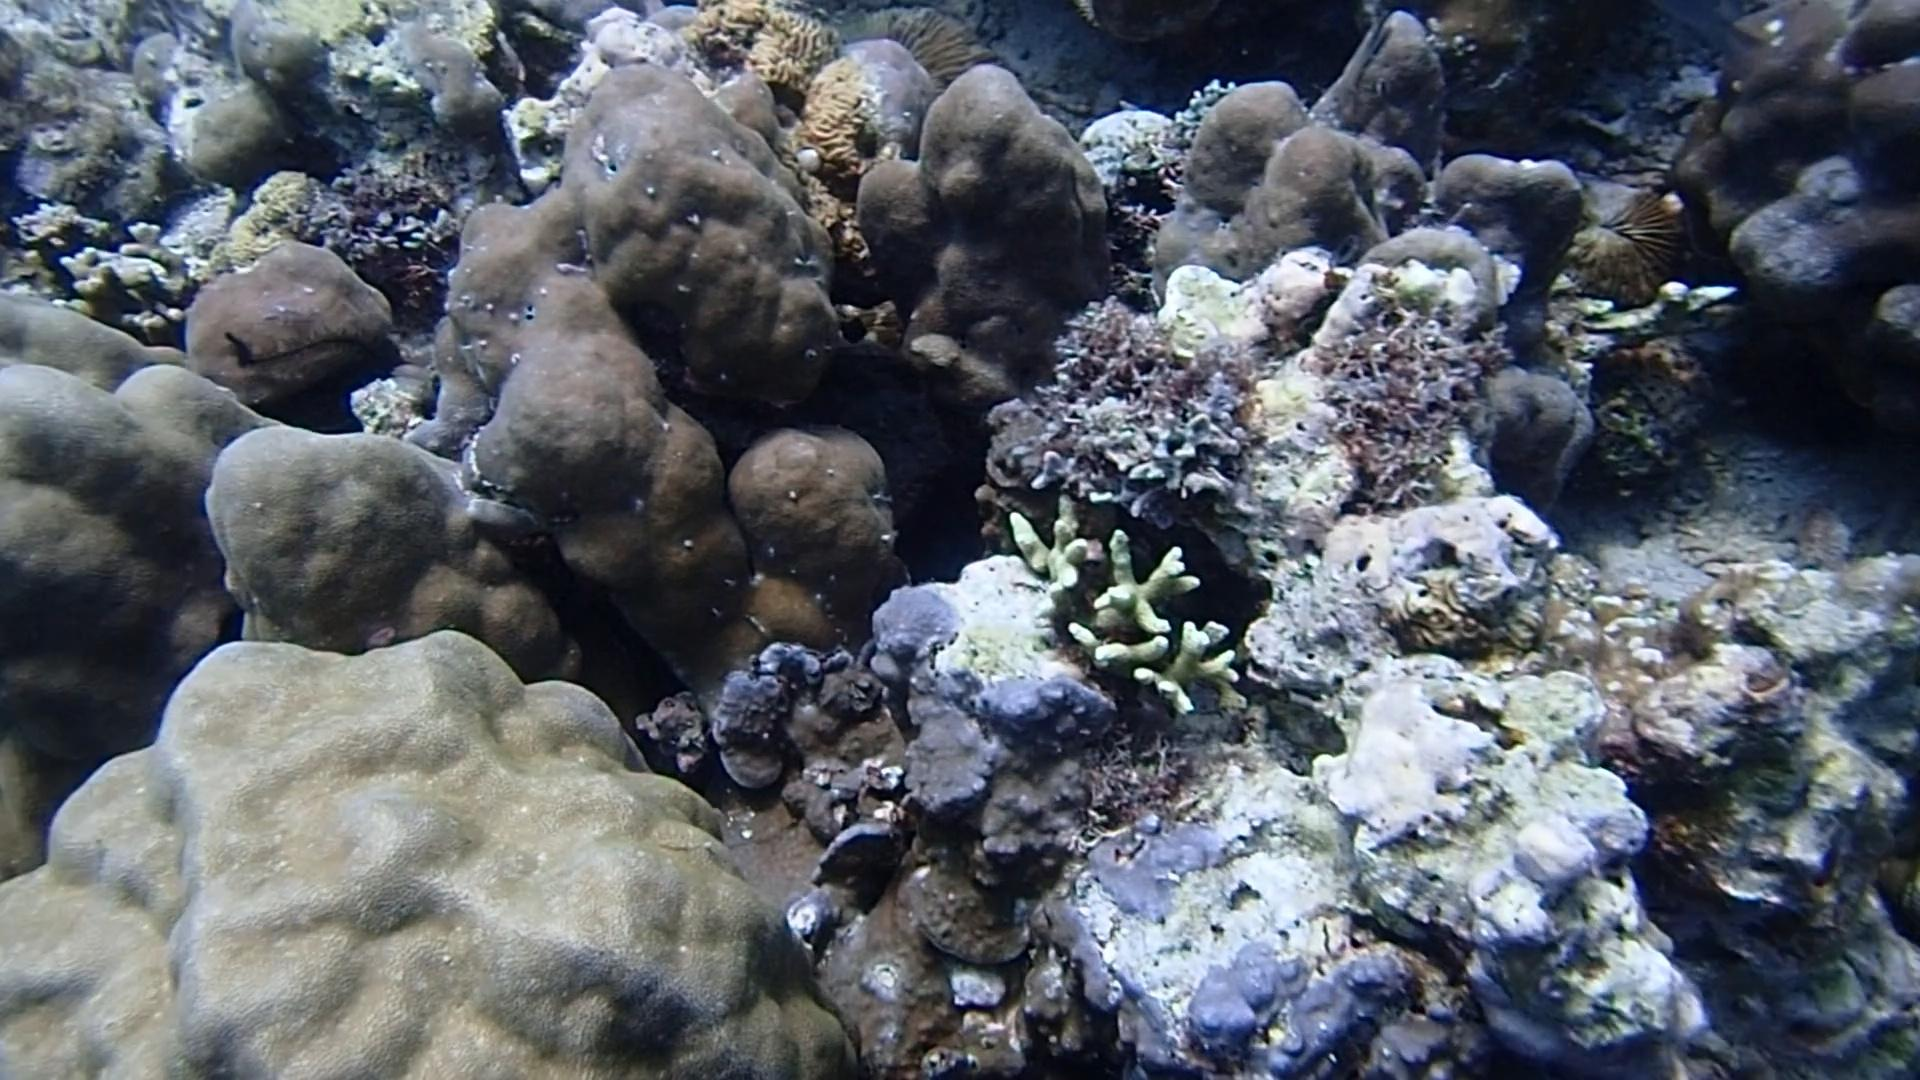Blue Fish Two: (1651, 0, 1782, 99)
